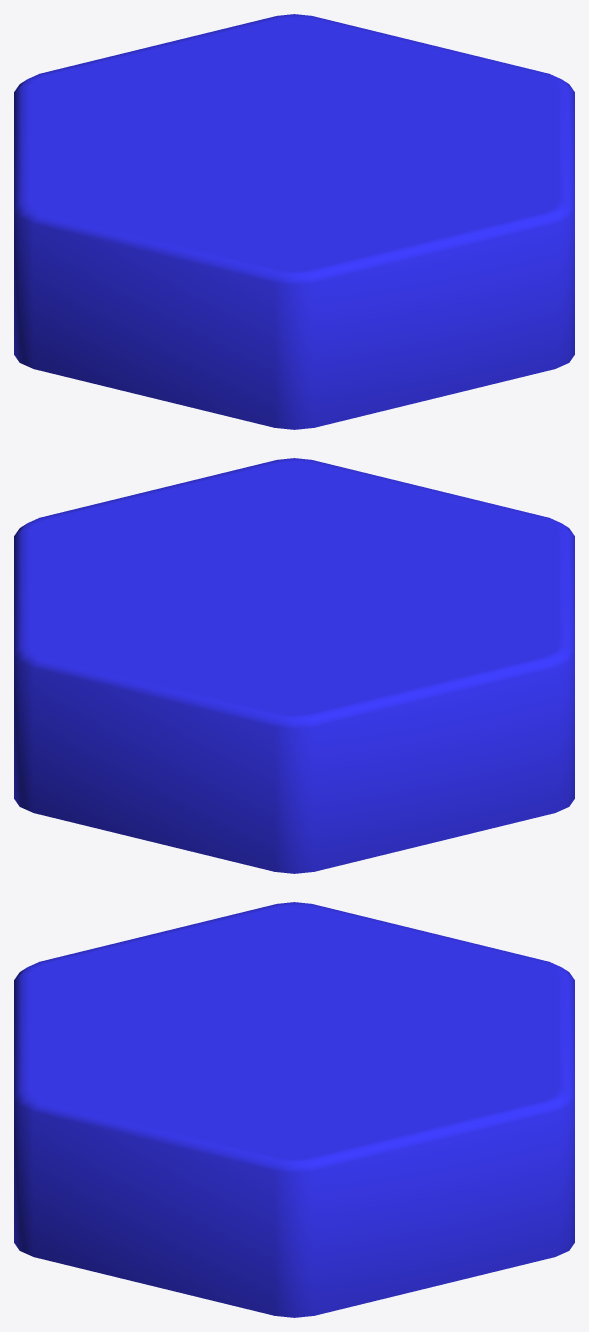
Rendered from hex_ground.fbx.
3 views of the same model, one above another, from view 1: azimuth 30°, elevation 25°; view 2: azimuth 150°, elevation 25°; view 3: azimuth 270°, elevation 25° (orthographic).
Parts seen in each view (by area): view 1: hex_platform; view 2: hex_platform; view 3: hex_platform.
Part boxes in pixels (<box>): hex_platform: <box>14,14,574,429</box>; hex_platform: <box>14,458,574,873</box>; hex_platform: <box>14,902,574,1317</box>.
Bounding box in the file's own units: 95.01 × 25 × 84.
